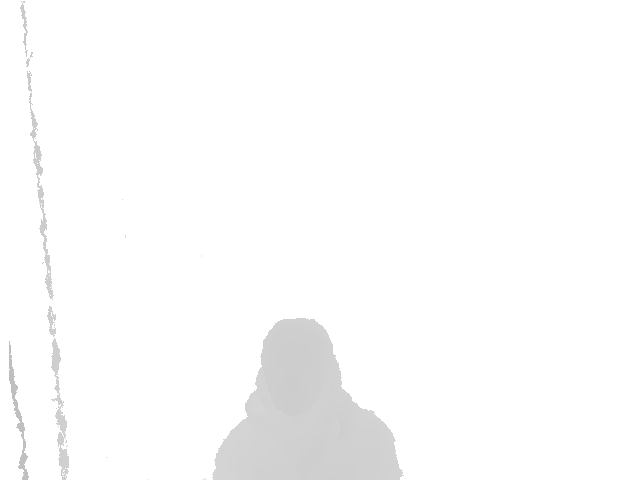head: (262, 317, 327, 417)
person: (212, 316, 404, 480)
